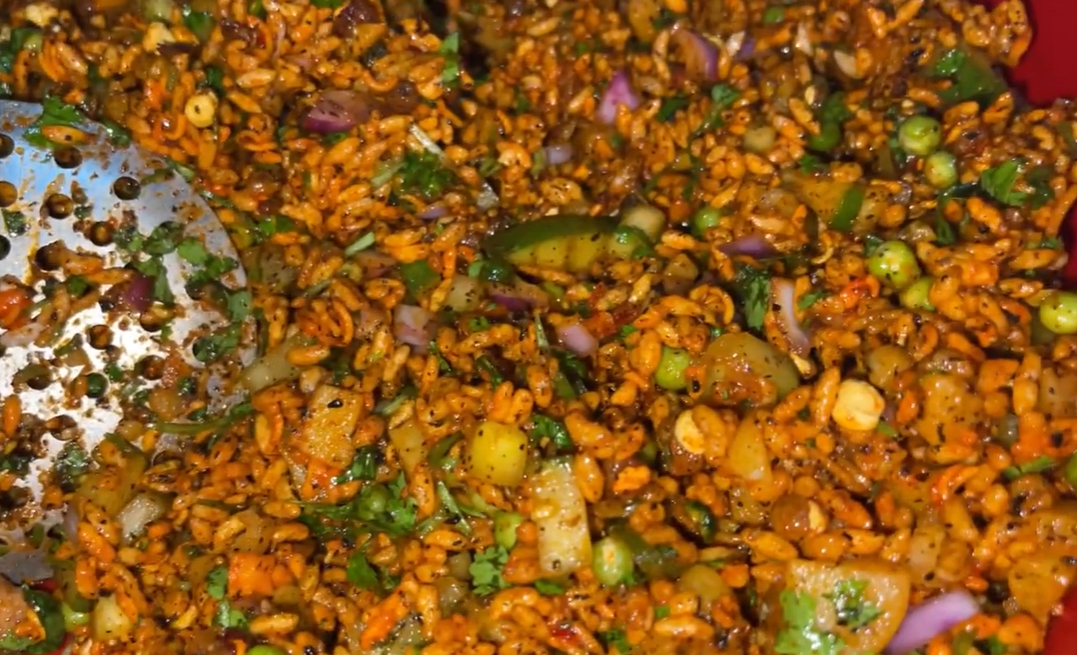chatpate: (31, 13, 1060, 644)
